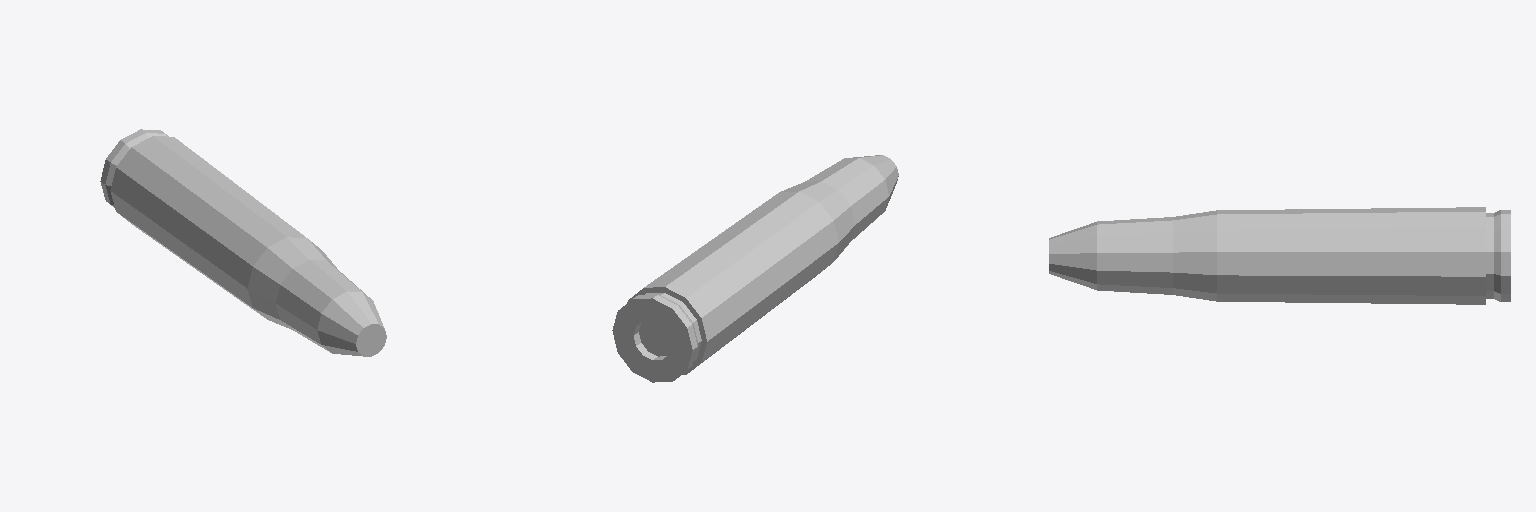
Rendered from Bullet.obj.
3 views of the same model, side by side, from view 1: azimuth 30°, elevation 25°; view 2: azimuth 150°, elevation 25°; view 3: azimuth 270°, elevation 25° (orthographic).
Parts seen in each view (by area): view 1: Cylinder; view 2: Cylinder; view 3: Cylinder.
Boxes of the visible parts, box(x1,y1,x2,y2) form: Cylinder: box(100, 129, 386, 356); Cylinder: box(612, 155, 898, 382); Cylinder: box(1049, 207, 1510, 304).
Bounding box in the file's own units: 0.0431 × 0.0431 × 0.2028.